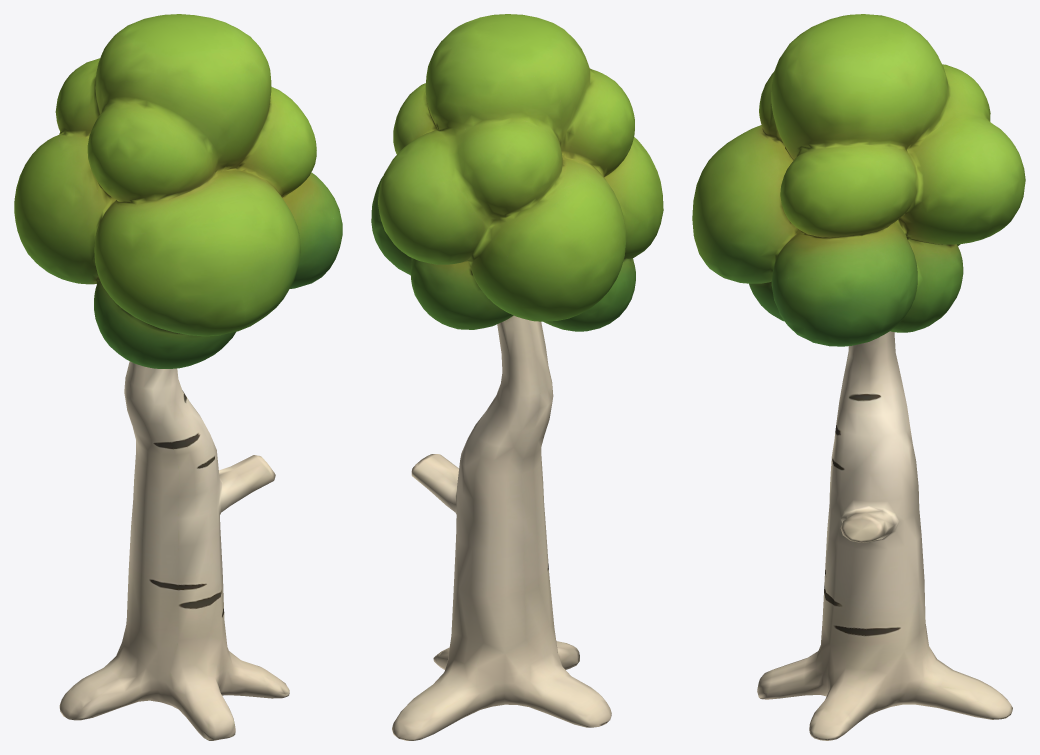
The model's file is birch_tree_v2.glb.
3 renders of one model, left to right at view 1: azimuth 30°, elevation 25°; view 2: azimuth 150°, elevation 25°; view 3: azimuth 270°, elevation 25°, orthographic.
Visible parts, largest first — view 1: birch_tree_v2; view 2: birch_tree_v2; view 3: birch_tree_v2.
Boxes of the visible parts, x1,y1,x2,y2 form: birch_tree_v2: [14, 14, 342, 740]; birch_tree_v2: [371, 14, 663, 740]; birch_tree_v2: [692, 14, 1025, 740].
Bounding box in the file's own units: 4.19 × 10 × 4.5.
1 material, 1 textured.
